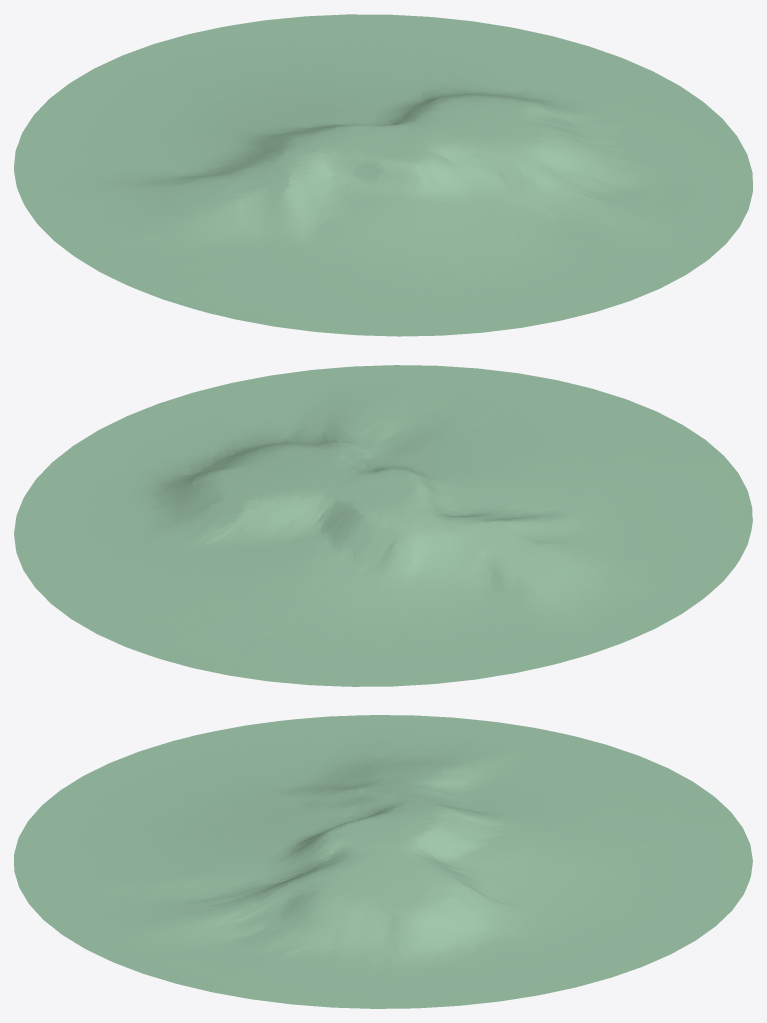
Rendered from island_coral_medium_H_round.fbx.
3 renders of one model, top to bottom at view 1: azimuth 30°, elevation 25°; view 2: azimuth 150°, elevation 25°; view 3: azimuth 270°, elevation 25°, orthographic. The views are drawn at different scales.
Parts seen in each view (by area): view 1: island_coral_medium_H_round; view 2: island_coral_medium_H_round; view 3: island_coral_medium_H_round.
Boxes of the visible parts, left/top/right/bottom form: island_coral_medium_H_round: left=14, top=14, right=752, bottom=336; island_coral_medium_H_round: left=14, top=365, right=752, bottom=686; island_coral_medium_H_round: left=14, top=715, right=752, bottom=1008.
Size of the model in its own units: 9344 by 478 by 9928.
